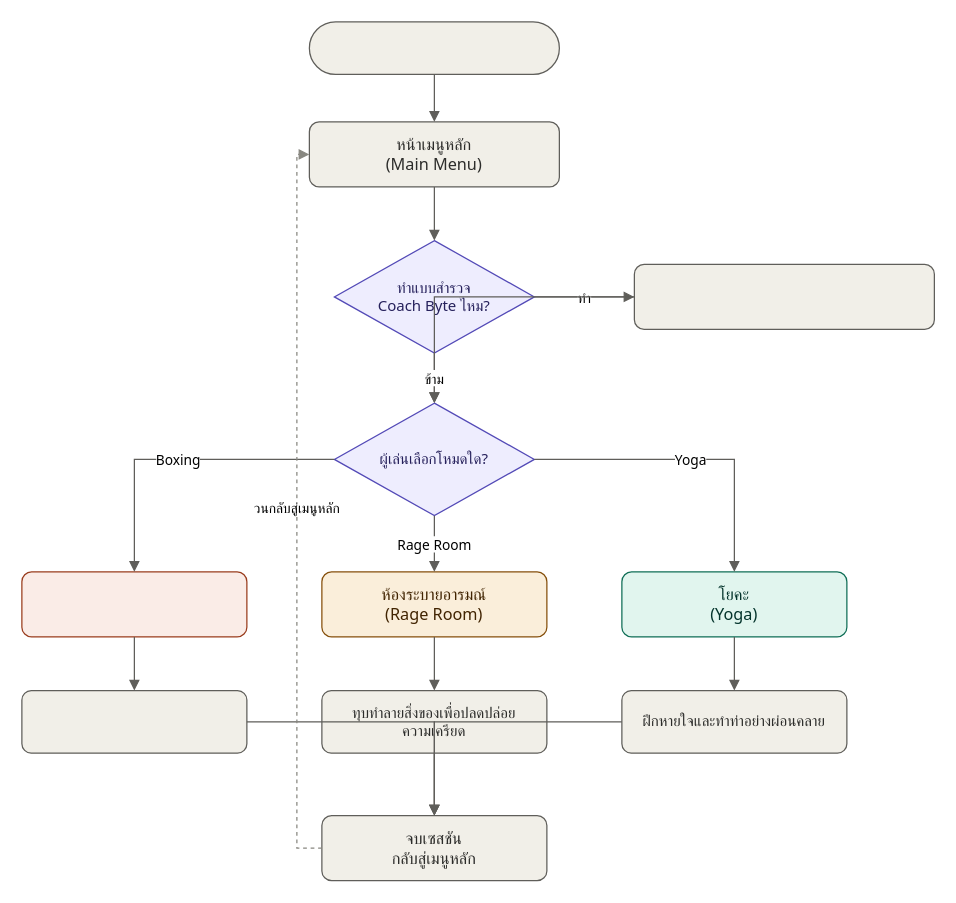
Some shapes in this 956 by 903 pixel diagram are drawn without their labels. The shapes that lost their labels are listed below. From the top down, each one's box as (x1, y1, x2, y2) in pixels, then its label:
(308, 21, 559, 74): เปิดเกม Stress Strike
(633, 263, 934, 329): ตอบแบบสำรวจ Coach Byte ระบบแนะนำโหมดที่เหมาะและไฮไลต์ในเมนู
(21, 571, 247, 637): ชกมวย (Boxing)
(21, 689, 247, 753): ต่อสู้ตามจังหวะและกลยุทธ์
